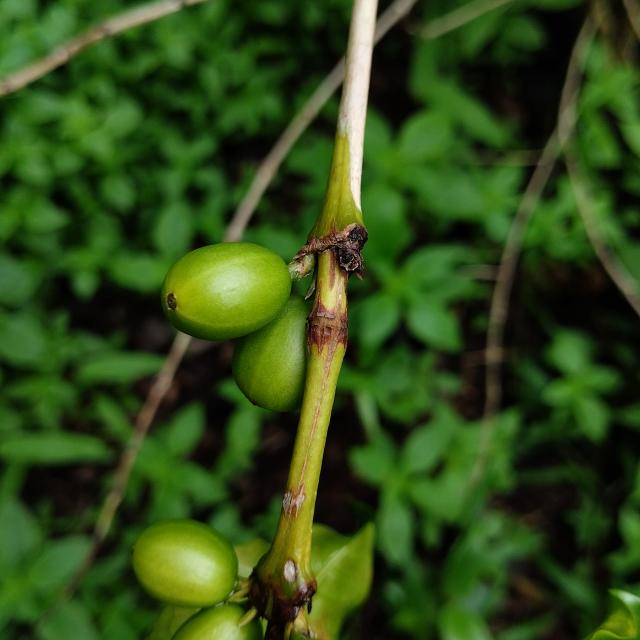green: (161, 242, 291, 341), (132, 520, 238, 609), (232, 295, 311, 412), (171, 604, 262, 640)
